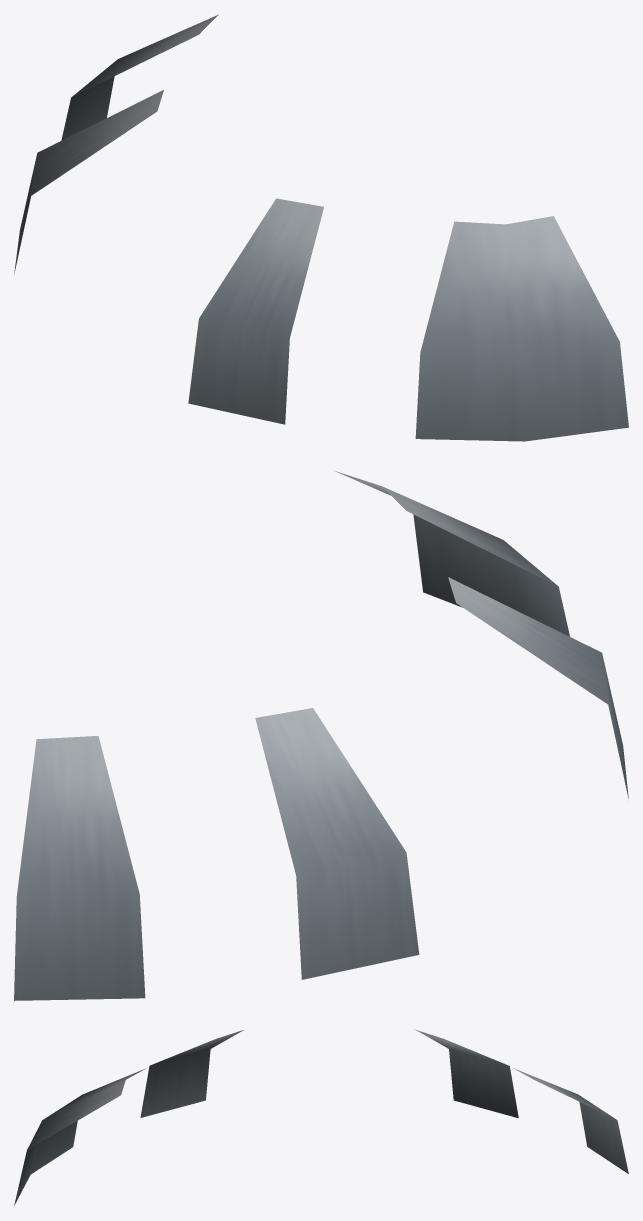
File: Cor1_bldg_Youngling_Room_windows_2.fbx
The picture shows the model from 3 angles, top to bottom: view 1: azimuth 30°, elevation 25°; view 2: azimuth 150°, elevation 25°; view 3: azimuth 270°, elevation 25°; orthographic projection. The views are drawn at different scales.
Parts seen in each view (by area): view 1: _2; view 2: _2; view 3: _2.
Boxes of the visible parts, bbox=[...] form: _2: bbox=[14, 14, 628, 441]; _2: bbox=[14, 470, 628, 1000]; _2: bbox=[14, 1029, 628, 1205].
Bounding box in the file's own units: 9.35 × 4.57 × 22.88.
